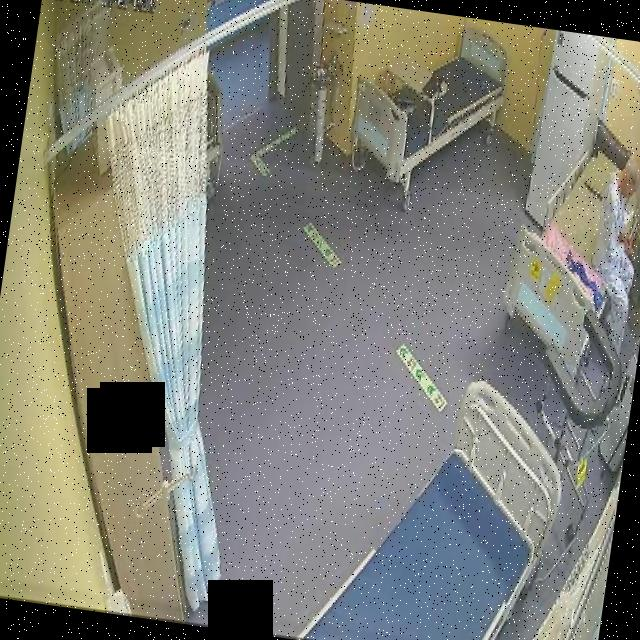bed: (301, 358, 578, 640), (498, 128, 640, 368), (344, 12, 511, 194)
patient: (578, 148, 640, 360)
sit: (578, 147, 640, 359)
